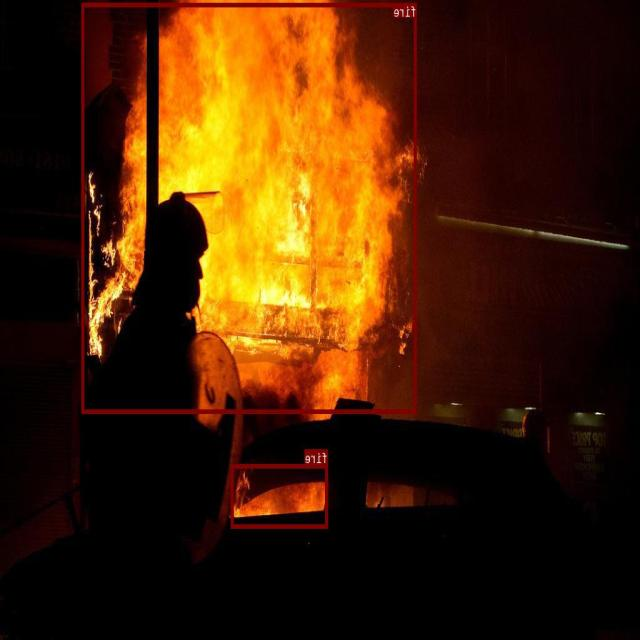fire: (82, 2, 417, 413), (232, 464, 328, 527)
